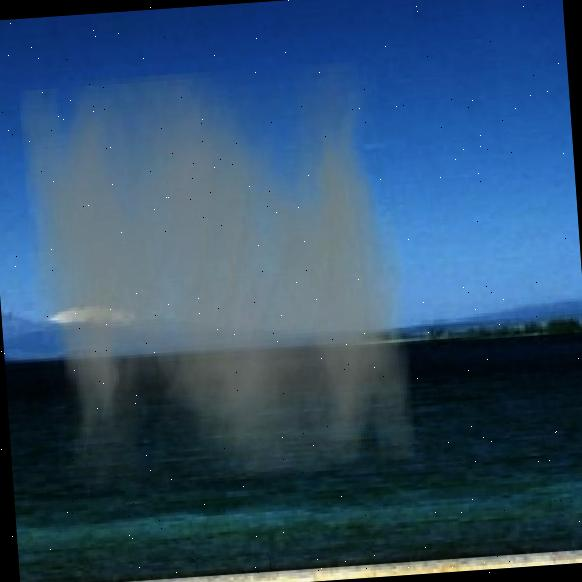smoke: (18, 59, 417, 493)
